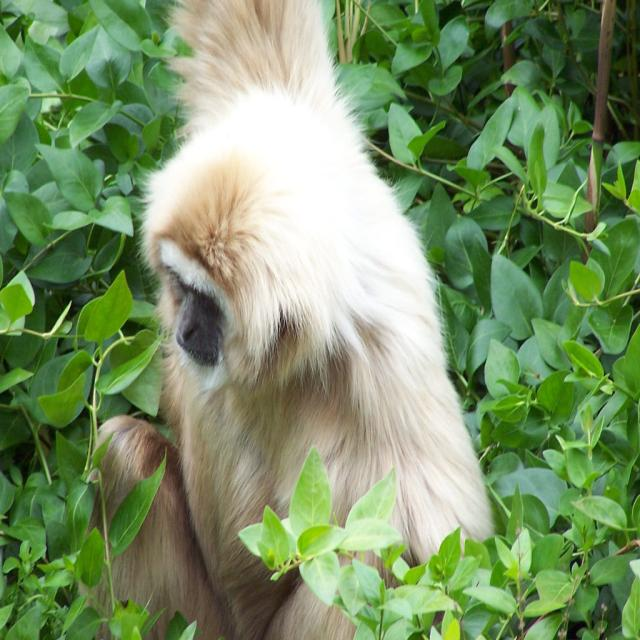Monkey: (89, 0, 496, 639)
